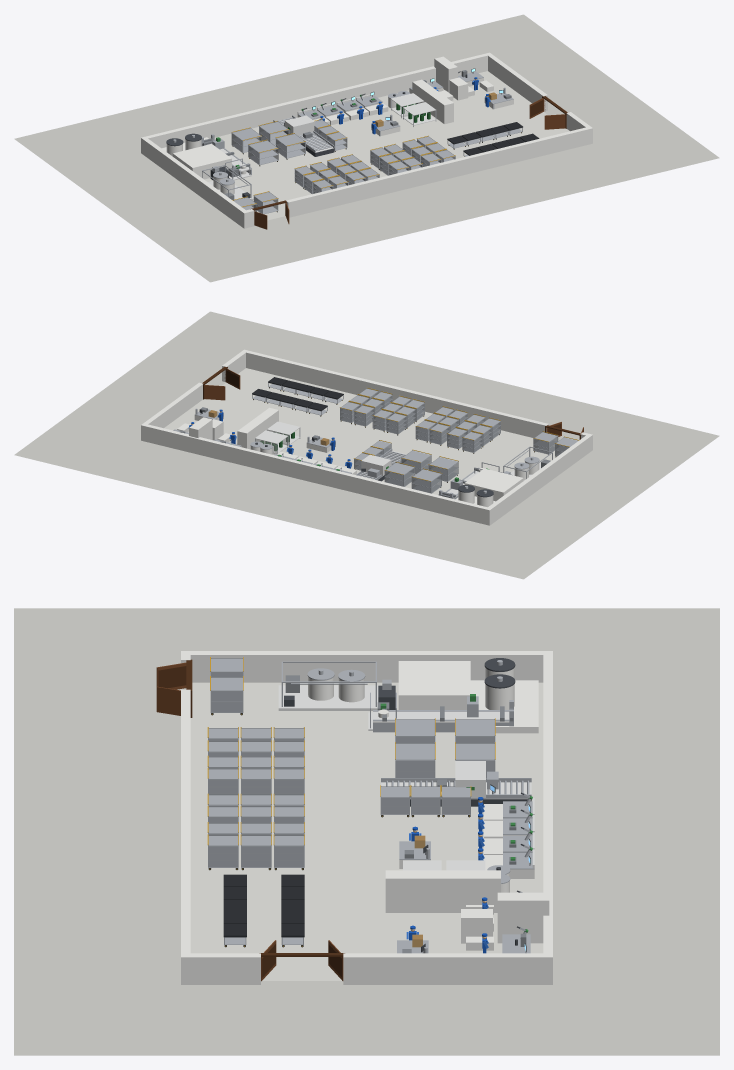
Rendered from gasket-line.glb.
3 renders of one model, top to bottom at view 1: azimuth 30°, elevation 25°; view 2: azimuth 150°, elevation 25°; view 3: azimuth 270°, elevation 25°, orthographic. The views are drawn at different scales.
Bounding box in the file's own units: 90 × 4.02 × 60.
